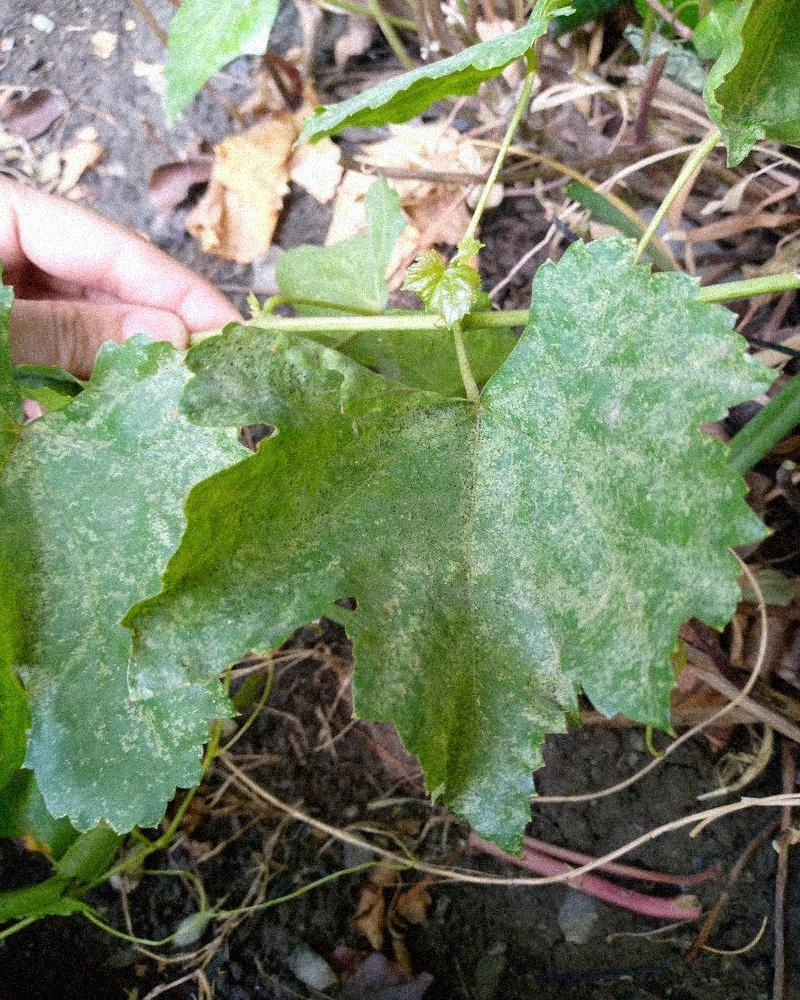Powdery-Mildew: (466, 420, 689, 834), (554, 256, 727, 414), (136, 565, 271, 734), (464, 363, 582, 529), (397, 402, 460, 465), (426, 525, 489, 588), (672, 557, 735, 620), (373, 616, 436, 679)
